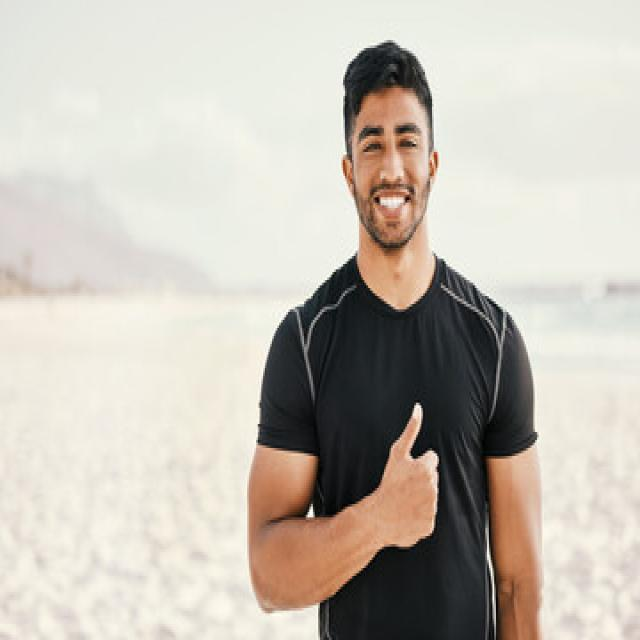Nonhelmet: (330, 28, 450, 263)
